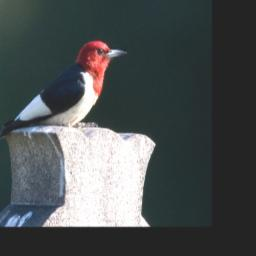Woodpecker: (0, 38, 131, 147)
